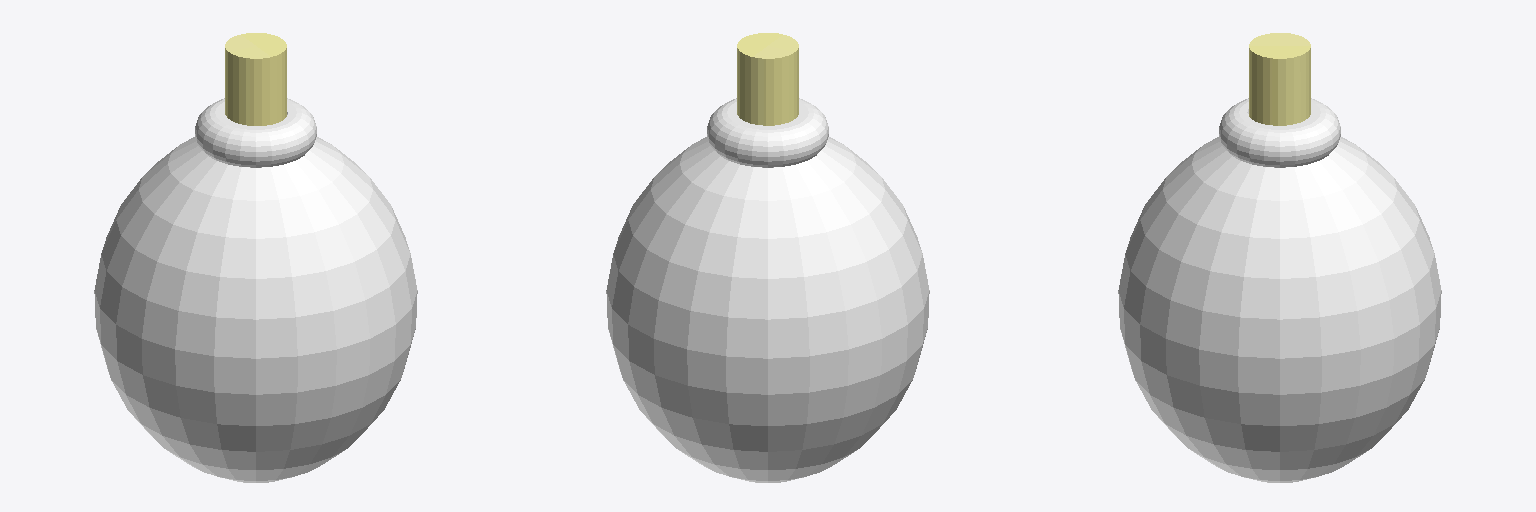
The picture shows the model from 3 angles: view 1: azimuth 30°, elevation 25°; view 2: azimuth 150°, elevation 25°; view 3: azimuth 270°, elevation 25°; orthographic projection.
Visible parts, largest first — view 1: mesh1-geometry-0, mesh2-geometry-0, mesh3-geometry-1; view 2: mesh1-geometry-0, mesh2-geometry-0, mesh3-geometry-1; view 3: mesh1-geometry-0, mesh2-geometry-0, mesh3-geometry-1.
Boxes of the visible parts, box(x1,y1,x2,y2) form: mesh1-geometry-0: box(94, 137, 417, 482); mesh2-geometry-0: box(195, 98, 316, 167); mesh3-geometry-1: box(225, 33, 286, 125); mesh1-geometry-0: box(606, 137, 929, 482); mesh2-geometry-0: box(707, 98, 828, 167); mesh3-geometry-1: box(737, 33, 798, 125); mesh1-geometry-0: box(1118, 137, 1441, 482); mesh2-geometry-0: box(1219, 98, 1340, 167); mesh3-geometry-1: box(1249, 33, 1310, 125).
Bounding box in the file's own units: 0.4963 × 0.7122 × 0.4963.
3 materials, 1 textured.